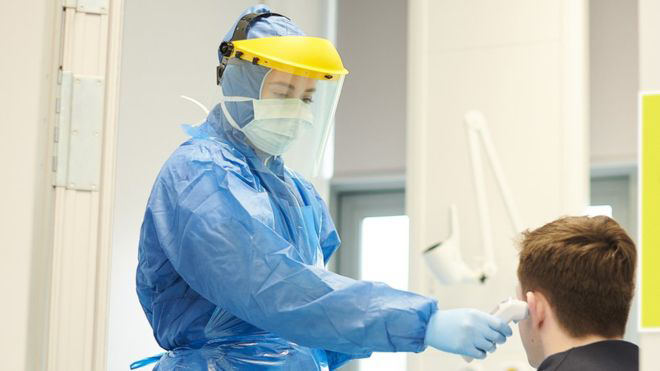Coverall: (136, 7, 425, 370)
Face_Shield: (219, 37, 350, 188)
Gloves: (423, 308, 514, 361)
with_mask: (239, 99, 316, 159)
